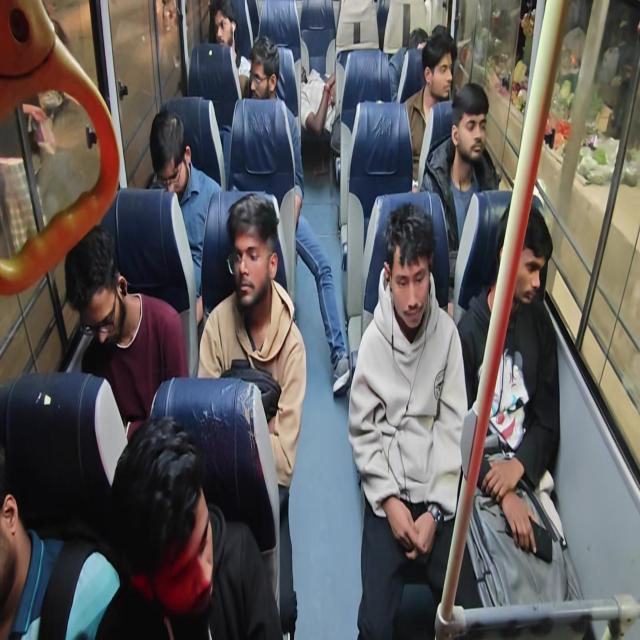person: (347, 202, 471, 638), (196, 193, 307, 636), (454, 200, 568, 609), (104, 414, 284, 639), (246, 36, 351, 396), (64, 224, 188, 441), (0, 444, 127, 639), (148, 108, 222, 323), (419, 81, 500, 251), (402, 32, 457, 190), (210, 0, 252, 98), (154, 0, 191, 99), (299, 65, 336, 136)
